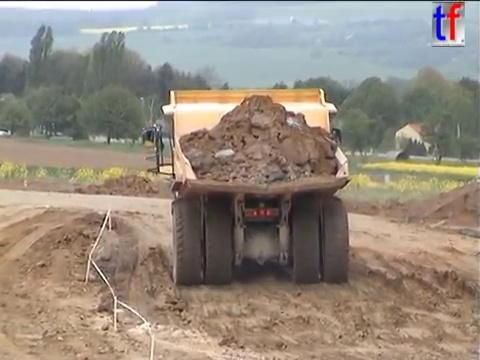truck: (139, 86, 353, 285)
